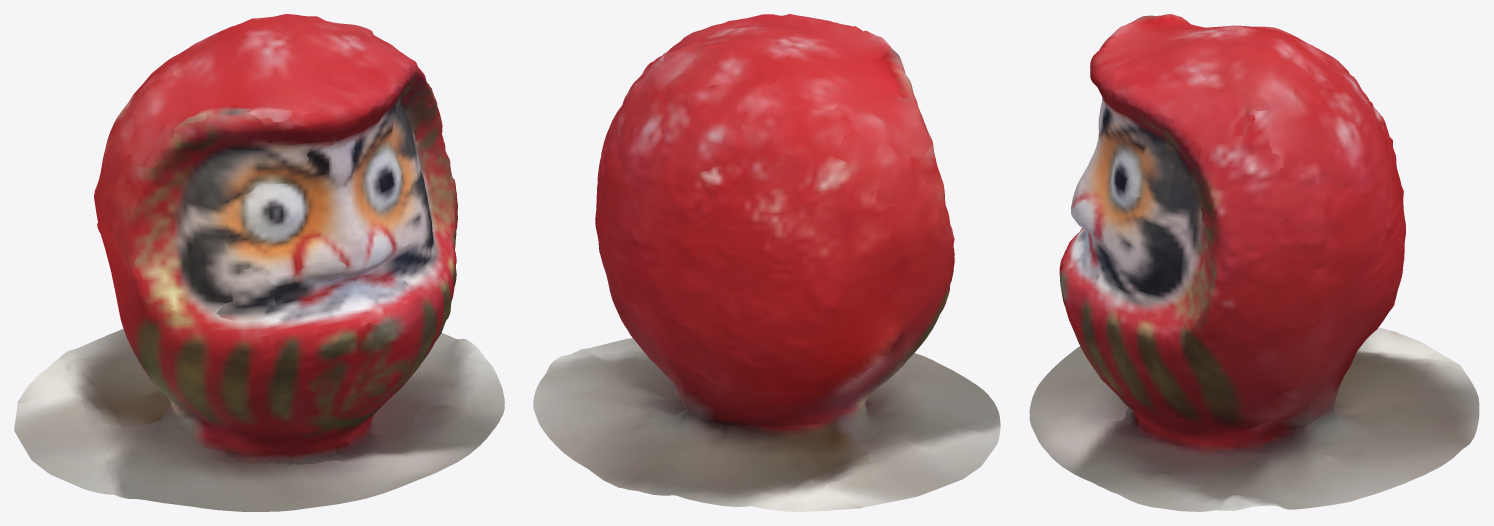
Rendered from daruma.glb.
The picture shows the model from 3 angles, left to right: view 1: azimuth 30°, elevation 25°; view 2: azimuth 150°, elevation 25°; view 3: azimuth 270°, elevation 25°; orthographic projection. The views are drawn at different scales.
Parts seen in each view (by area): view 1: Object_2; view 2: Object_2; view 3: Object_2.
Boxes of the visible parts, x1,y1,x2,y2 form: Object_2: [14, 14, 504, 511]; Object_2: [533, 14, 1000, 511]; Object_2: [1029, 14, 1479, 511].
Size of the model in its own units: 0.3012 by 0.2577 by 0.2727.
Materials: 1 (1 with a texture image).
